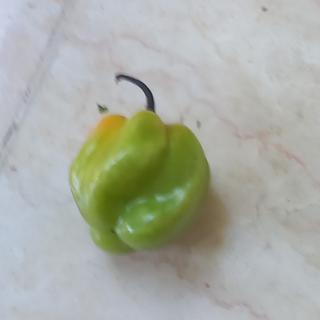Grade-B: (61, 105, 214, 256)
